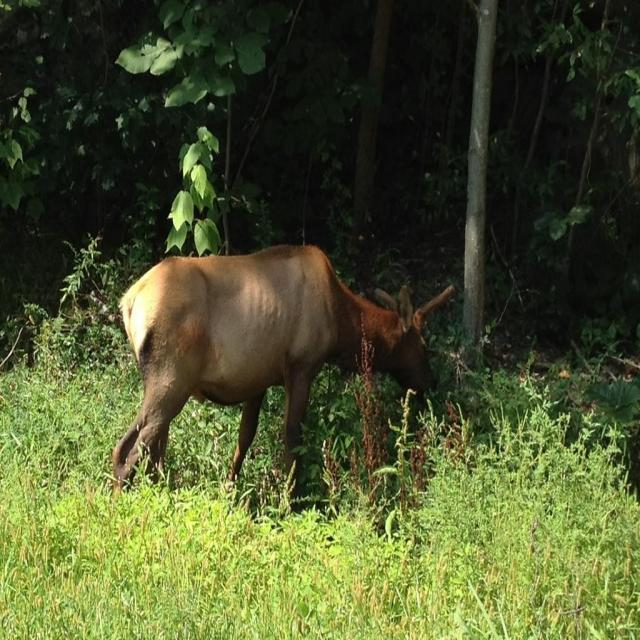Deer: (108, 241, 464, 529)
